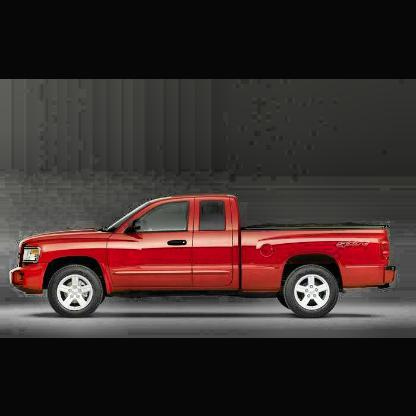Dodge Dakota Club Cab 2007: (10, 195, 398, 319)
